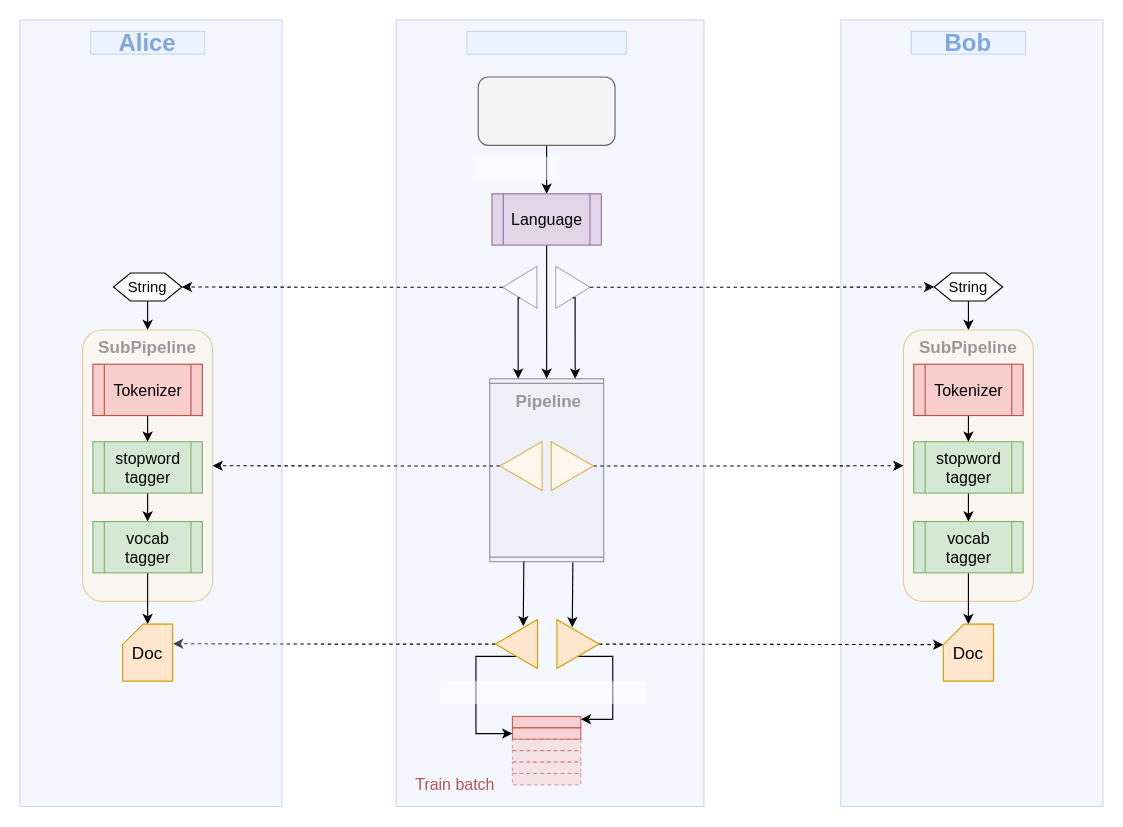
Some shapes in this 1123 by 827 pixel diagram are drawn without their labels. The shapes that lost their labels are listed below. From the top down, each one's box as (x1, y1, x2, y2) in pixels, then its label:
(466, 30, 626, 54): Company
(477, 76, 615, 145): syfertext
(475, 156, 556, 179): load()
(440, 681, 646, 703): get_encrypted_vector()
